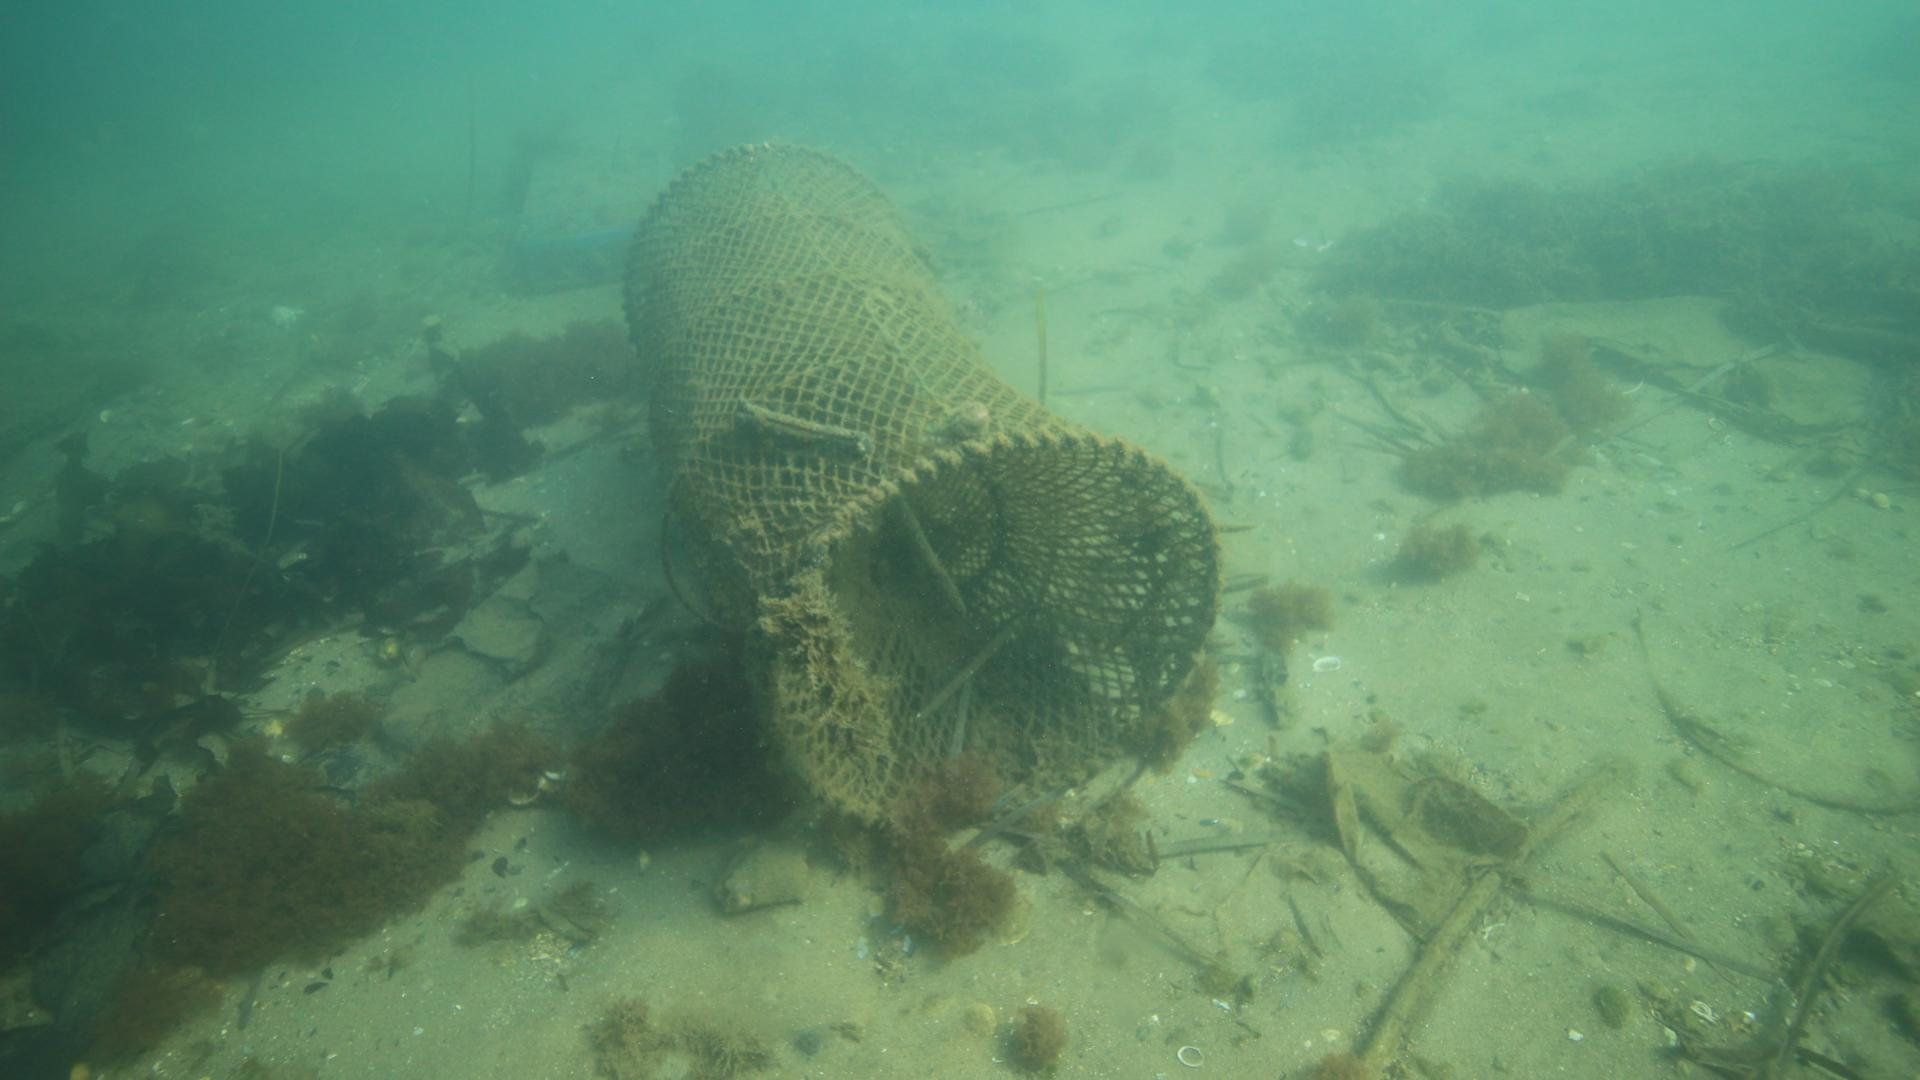spring fish trap: (615, 142, 1217, 841)
